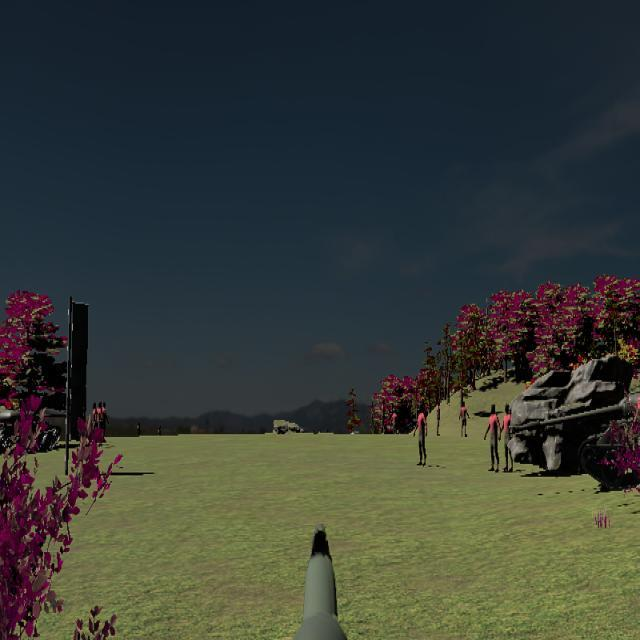Human: (499, 403, 515, 474), (485, 403, 501, 473), (413, 402, 428, 467), (459, 399, 471, 439)
Tank: (0, 403, 66, 457)
